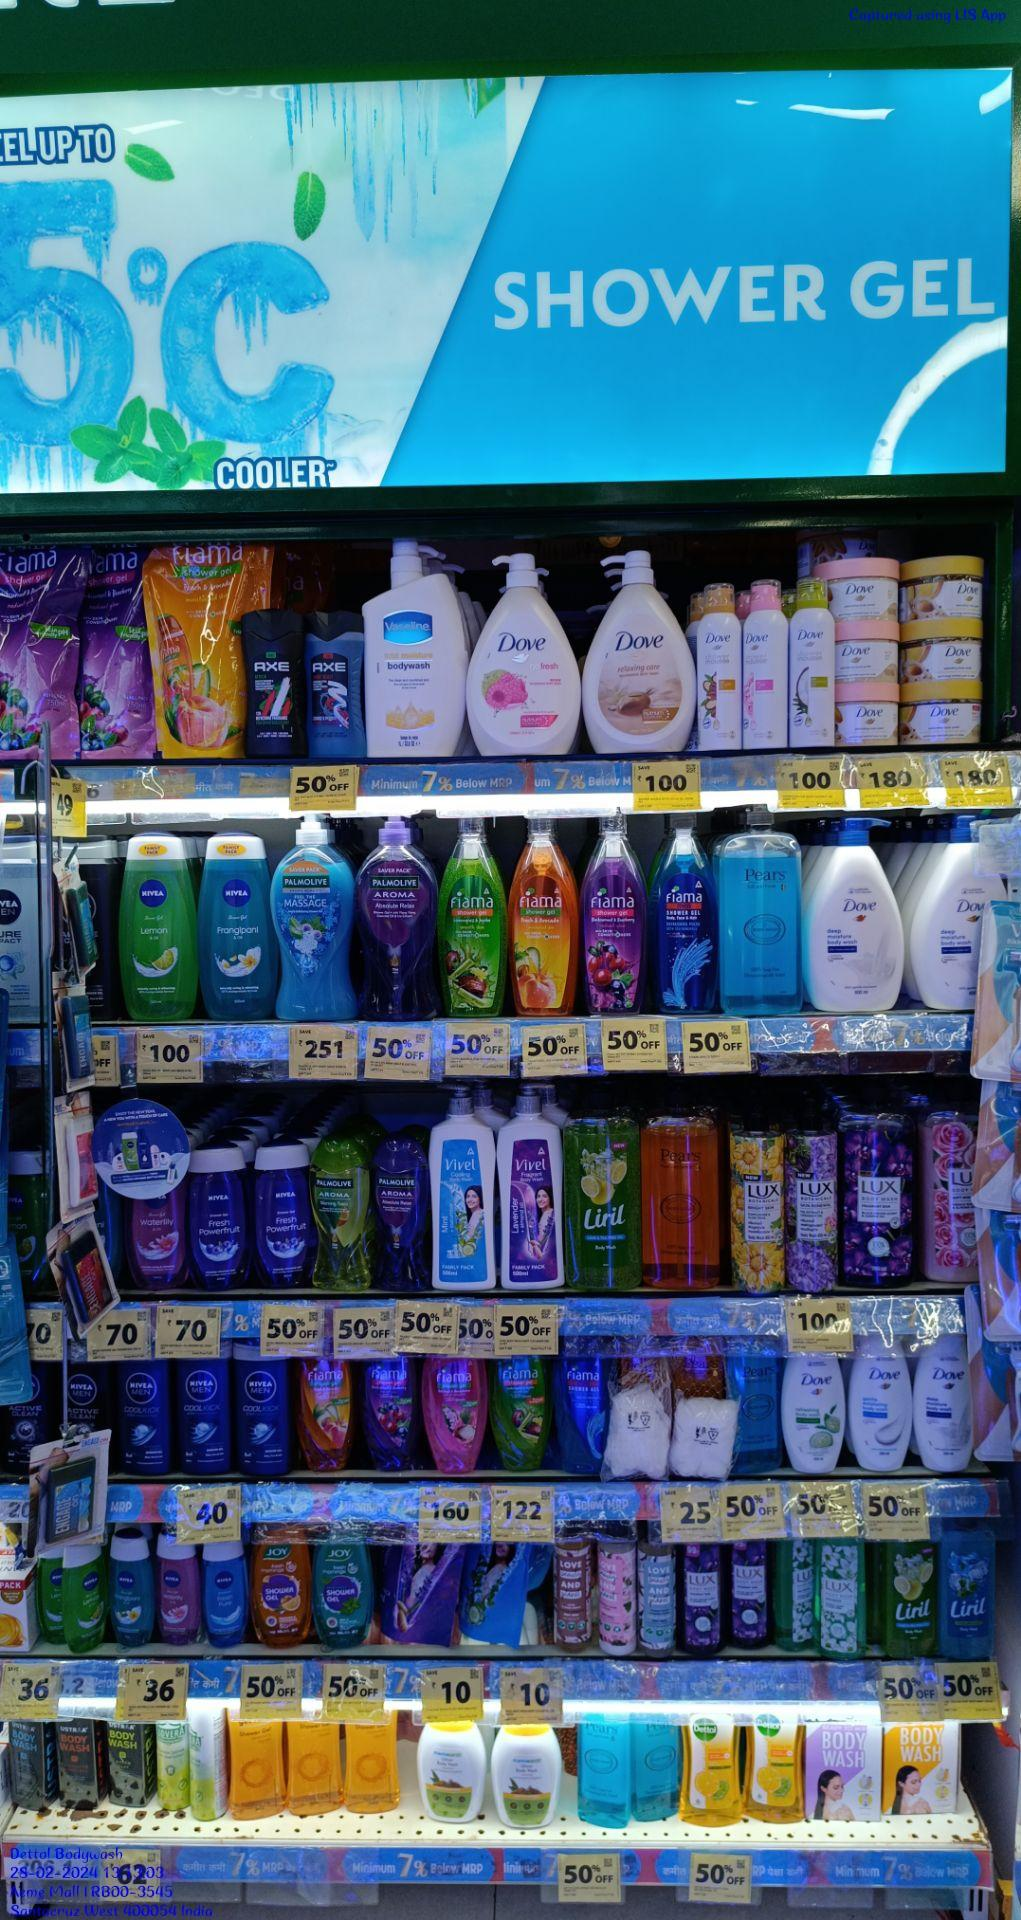Dettol_Bodywash_Refresh: (747, 1708, 804, 1822), (682, 1710, 739, 1825)
Dove_Deep_Moisture_Body_Wash_250ML: (917, 1336, 974, 1473)
Dove_Gentle_Exfoliating_Body_Wash_250ML: (853, 1336, 912, 1472)
Dove_Refreshing_Body_Wash_250ML: (786, 1354, 844, 1474)
Fiama_Shower_Gel_Lemongrass_and_Jojoba_250ML: (493, 1350, 549, 1473)
Fiama_Shower_Gel_Patchouli_and_Macadamia_250ML: (422, 1356, 486, 1470)
Fiama_Shower_Gel_Peach_and_Avocado_250ML: (296, 1357, 354, 1473)
Joy_Shower_Gel_Mandarin_and_Lemongrass_250ML: (251, 1520, 310, 1648)
Joy_Shower_Gel_Mint_and_Eucalyptus_250ML: (312, 1524, 370, 1647)
Liril_Cooling_Mint_Body_Wash_250ML: (944, 1519, 994, 1661)
Liril_Lime_and_Tea_Tree_Oil_Body_Wash_250ML: (885, 1538, 936, 1660)
Lux_Black_Orchid_Scent_and_Juniper_Oil_Body_Wash_245ML: (679, 1544, 723, 1652), (730, 1538, 770, 1650)
Lux_Body_Wash_Skin_Detox_Freesia_Scent_and_Alove_Vera_245ML: (822, 1537, 862, 1660), (778, 1537, 814, 1655)
Nivea_Shower_Gel_Frangipani_and_Oil_250ML: (199, 832, 274, 1021), (110, 1528, 147, 1647)
Nivea_Shower_Gel_Fresh_Powerfruit_250ML: (187, 1140, 248, 1293), (258, 1137, 310, 1293)
Nivea_Shower_Gel_Lemon_and_Oil_250ML: (118, 838, 192, 1022), (66, 1543, 108, 1651)
Nivea_Shower_Gel_Waterlily_and_Oil_250ML: (157, 1528, 196, 1648)
Palmolive_Aroma_Morning_Tonic_Shower_Gel_250ML: (314, 1134, 370, 1297)
Palmolive_Aroma_Relax_250ML: (370, 1137, 427, 1291)
Pears_Pure_Glycerin_and_Mint_Extracts_Body_Wash_250ML: (575, 1709, 626, 1826), (634, 1708, 679, 1822)
